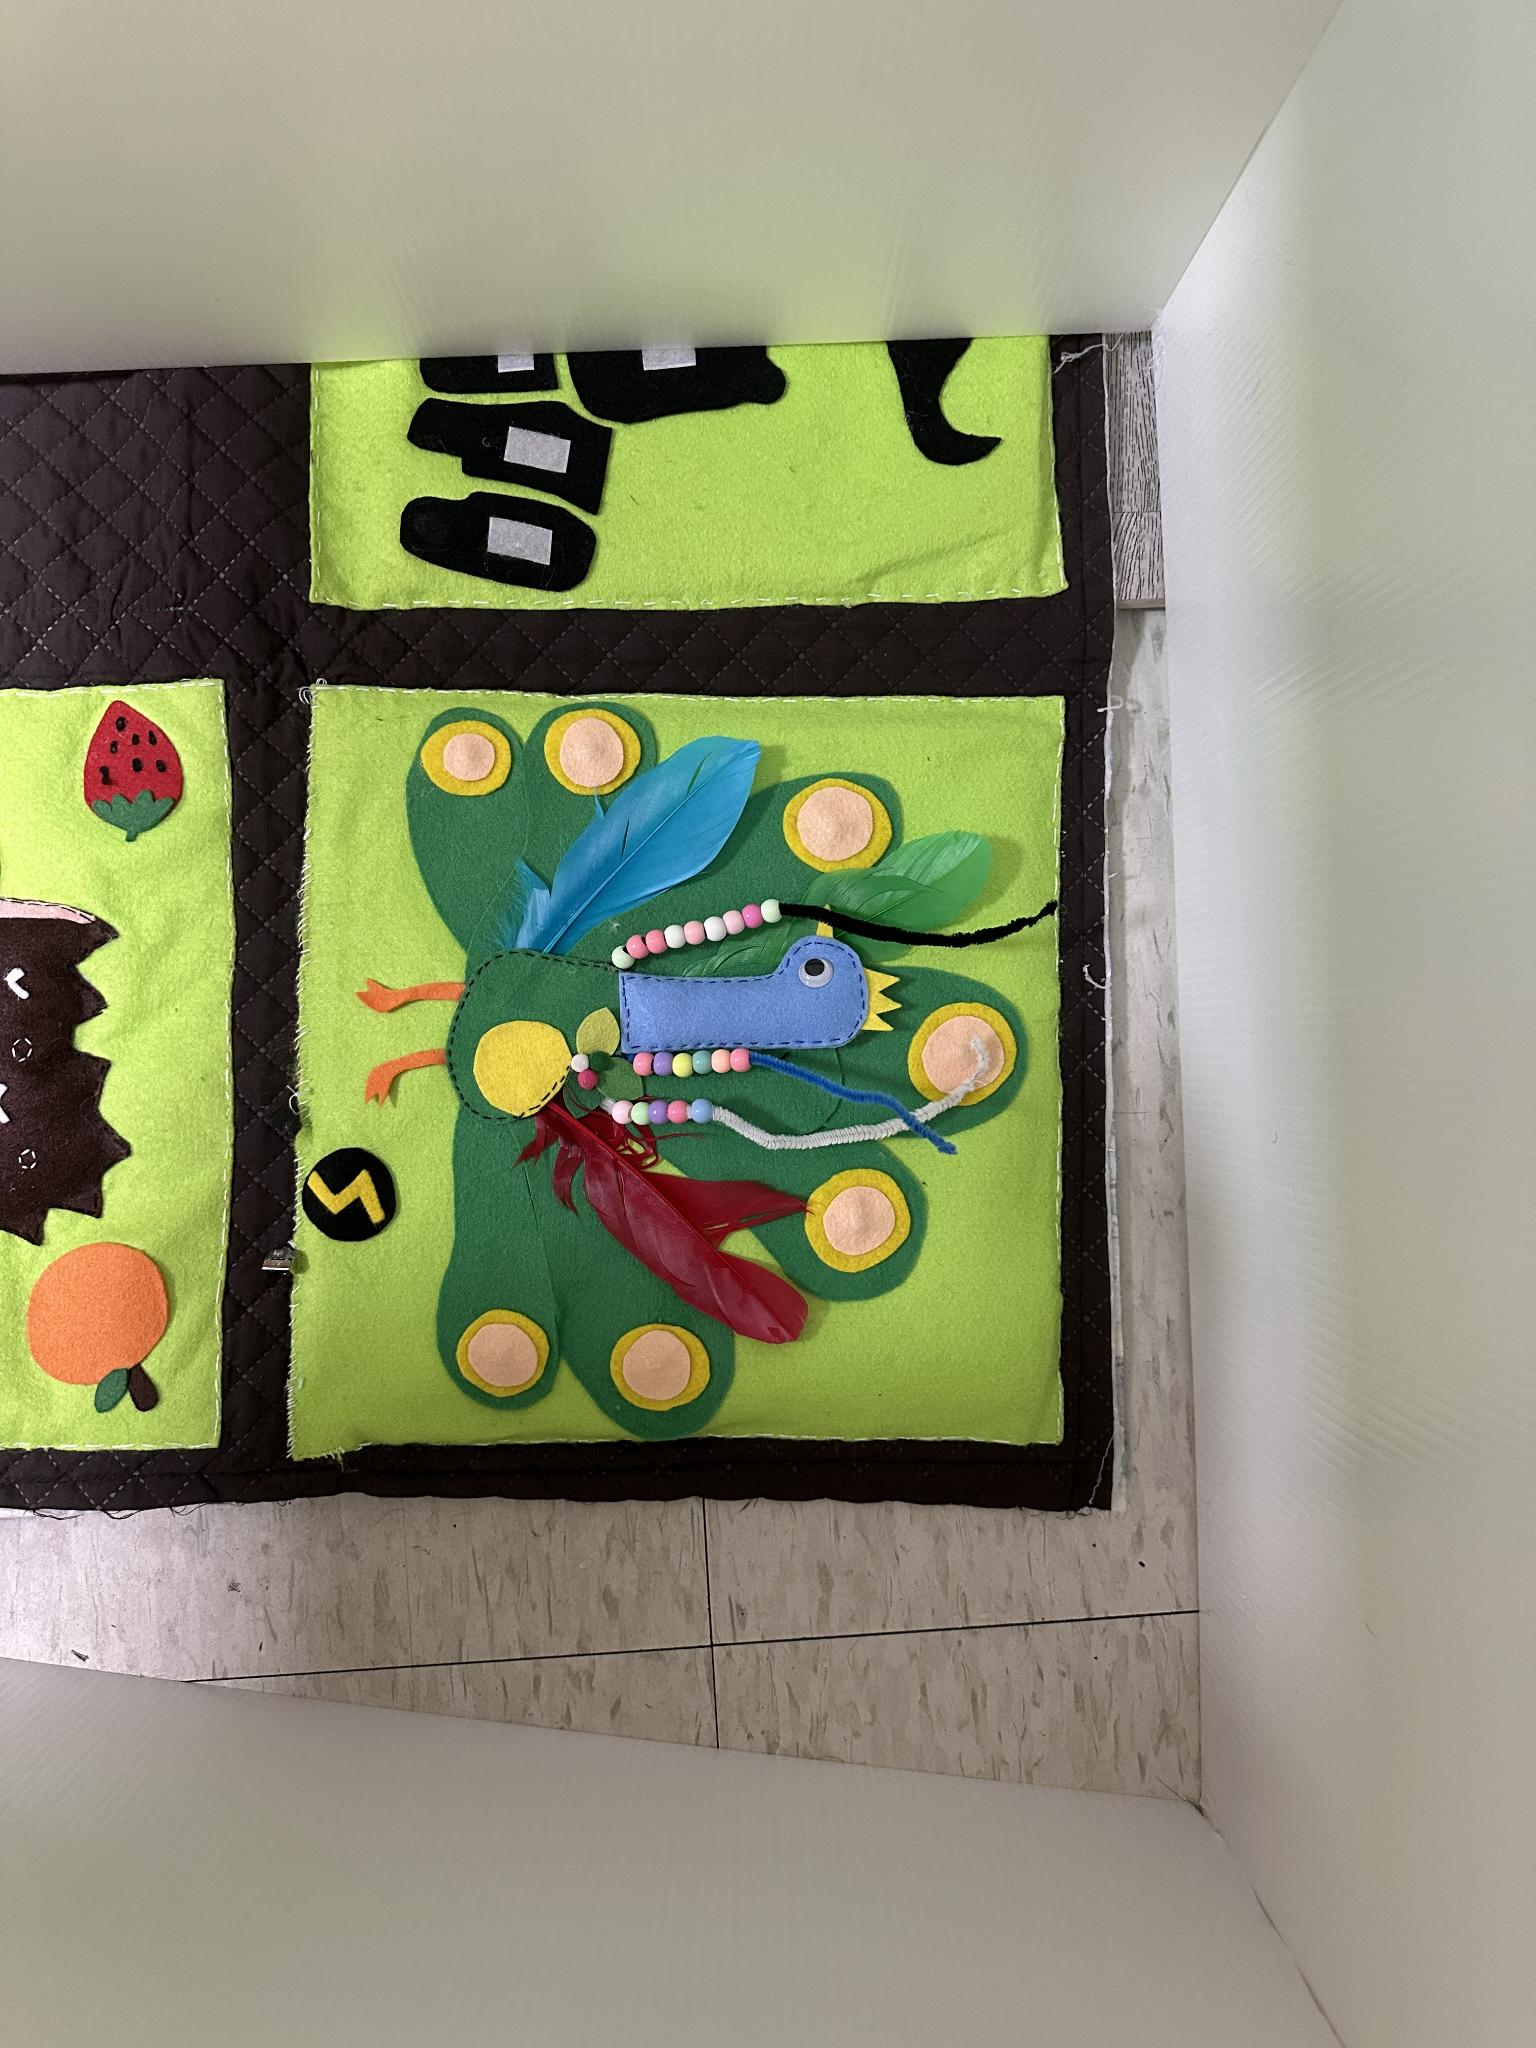bead: (626, 934, 650, 958), (611, 945, 634, 969), (721, 908, 744, 932), (702, 916, 728, 937), (682, 919, 705, 942), (644, 929, 665, 953), (671, 1051, 692, 1074), (729, 1048, 750, 1071), (665, 924, 686, 945), (691, 1100, 712, 1121), (613, 1100, 631, 1124), (744, 906, 763, 927), (762, 898, 781, 919), (632, 1053, 652, 1074), (652, 1055, 671, 1076), (712, 1048, 729, 1071), (629, 1101, 647, 1124), (668, 1100, 686, 1121), (694, 1050, 710, 1072), (649, 1101, 665, 1124)
